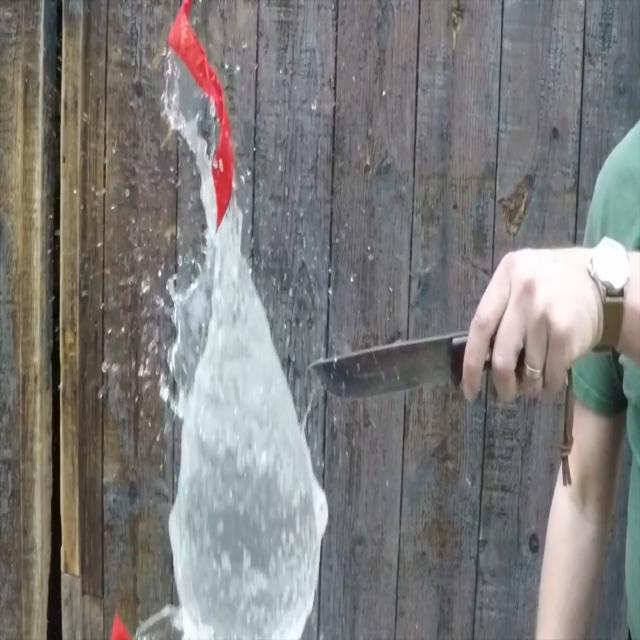knife: (304, 326, 464, 421)
